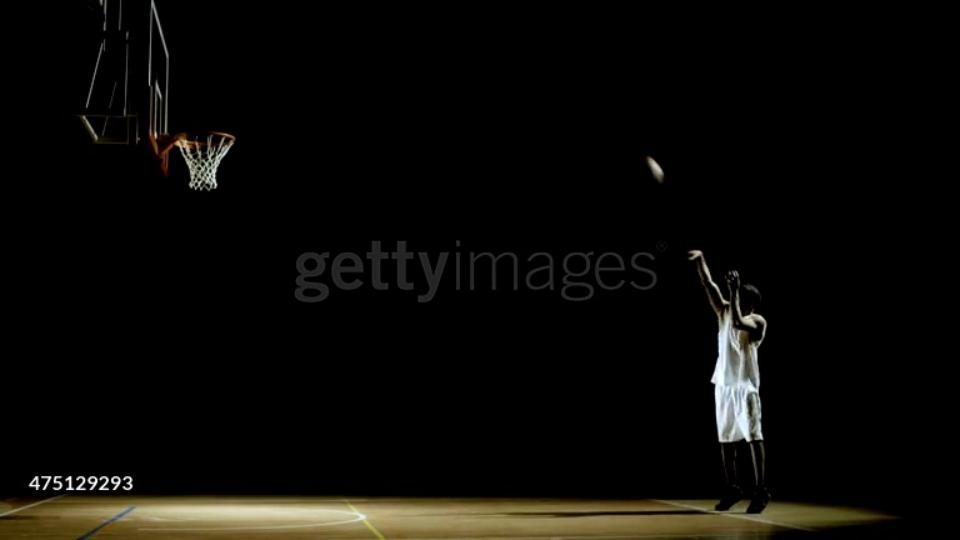hoop: (170, 130, 238, 156)
